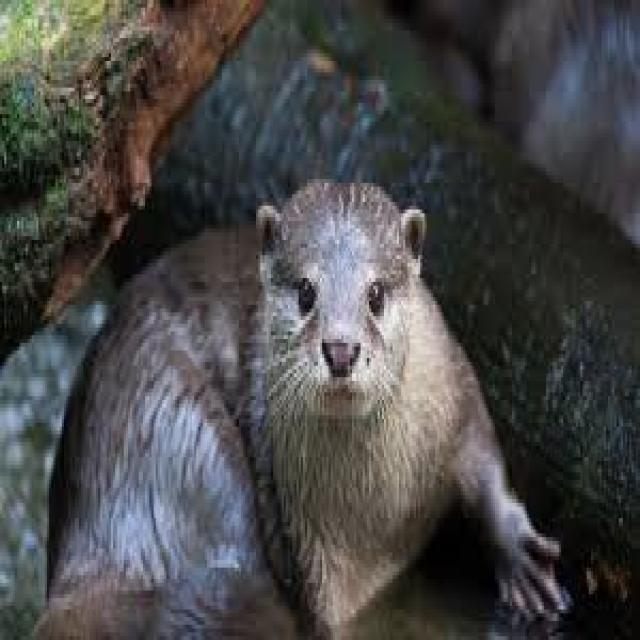Otter: (46, 164, 573, 640)
